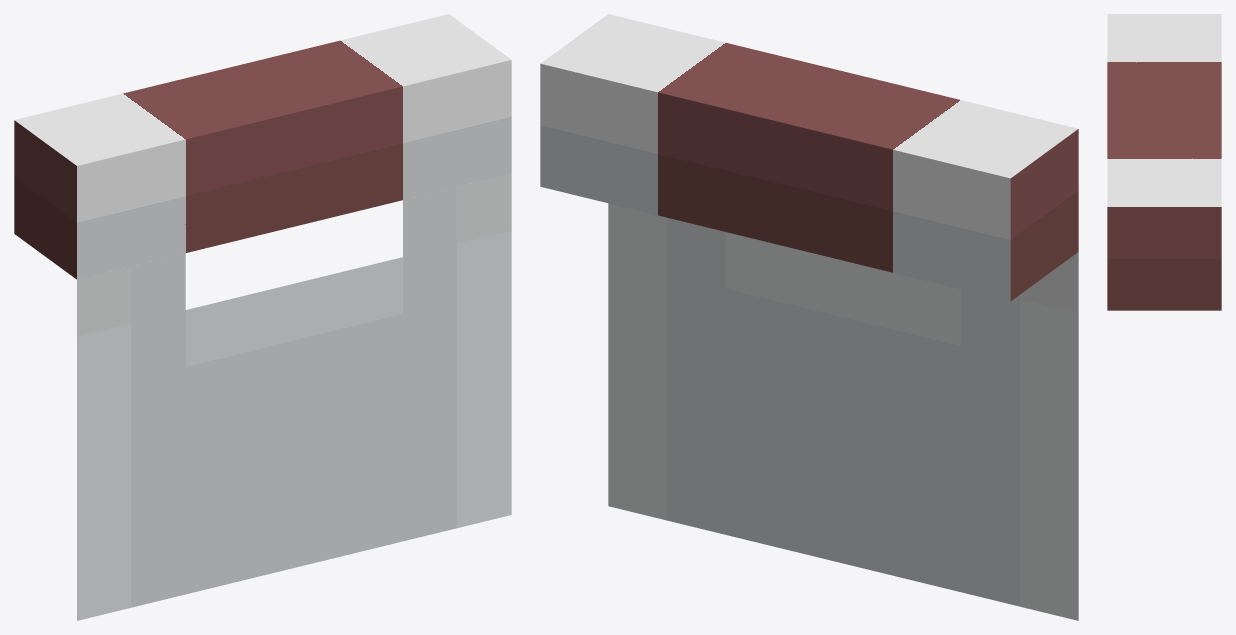
The model's file is _White Banner Hanging.glb.
3 views of the same model, side by side, from view 1: azimuth 30°, elevation 25°; view 2: azimuth 150°, elevation 25°; view 3: azimuth 270°, elevation 25° (orthographic). The views are drawn at different scales.
Visible parts, largest first — view 1: cube; view 2: cube; view 3: cube.
Boxes of the visible parts, box(x1,y1,x2,y2) form: cube: box(14, 14, 511, 620); cube: box(540, 14, 1078, 620); cube: box(1107, 14, 1221, 310).
Bounding box in the file's own units: 1 × 1 × 0.2501.
Materials: 1 (1 with a texture image).
